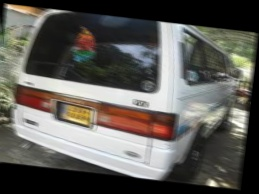van: (6, 7, 243, 180)
